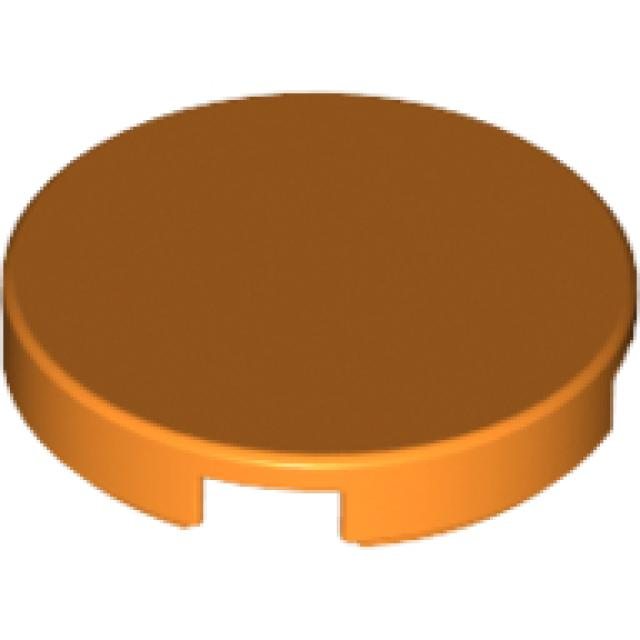Orange_Small: (3, 93, 640, 550)
